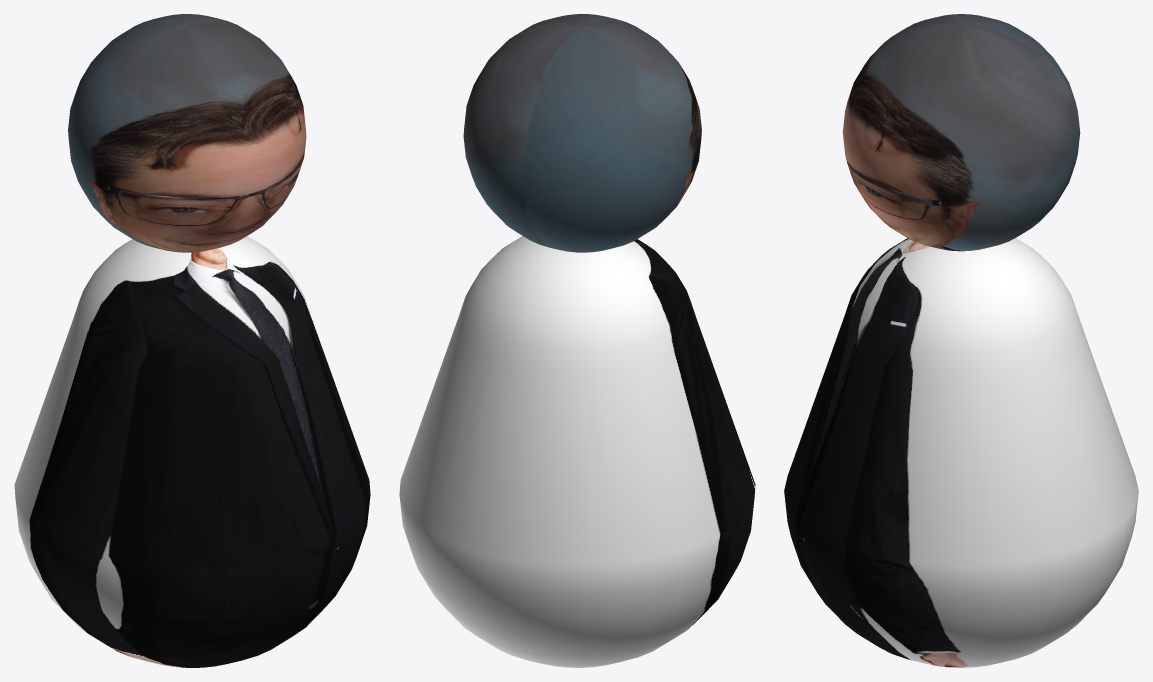
Rendered from MrKinneyFinalBoss.glb.
3 views of the same model, side by side, from view 1: azimuth 30°, elevation 25°; view 2: azimuth 150°, elevation 25°; view 3: azimuth 270°, elevation 25° (orthographic).
Parts seen in each view (by area): view 1: Sphere.001; view 2: Sphere.001; view 3: Sphere.001.
Part boxes in pixels (x1,y1,x2,y2): Sphere.001: (14, 14, 370, 667); Sphere.001: (399, 14, 755, 667); Sphere.001: (784, 14, 1138, 667).
Bounding box in the file's own units: 1.52 × 2.95 × 1.52.
Materials: 2 (2 with a texture image).
